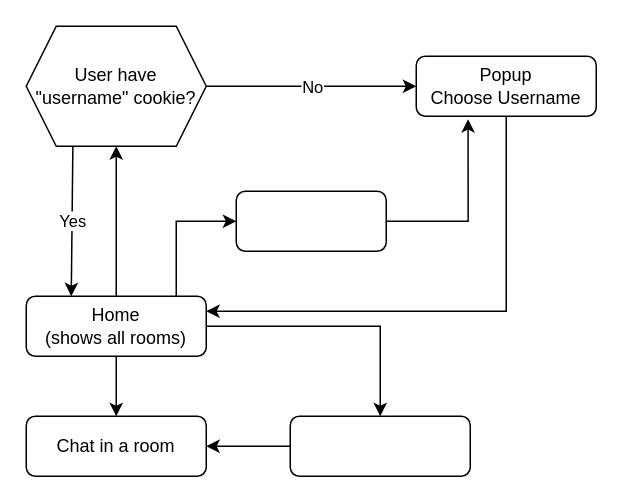
Some shapes in this 623 by 503 pixel diagram are drawn without their labels. The shapes that lost their labels are listed below. From the top down, each one's centre as x and y in pixels, then its label:
the point at 310,220: Change Username Button
the point at 379,445: Create new room
